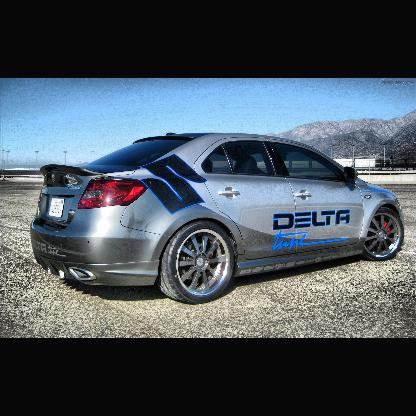Suzuki Kizashi Sedan 2012: (30, 132, 407, 304)
